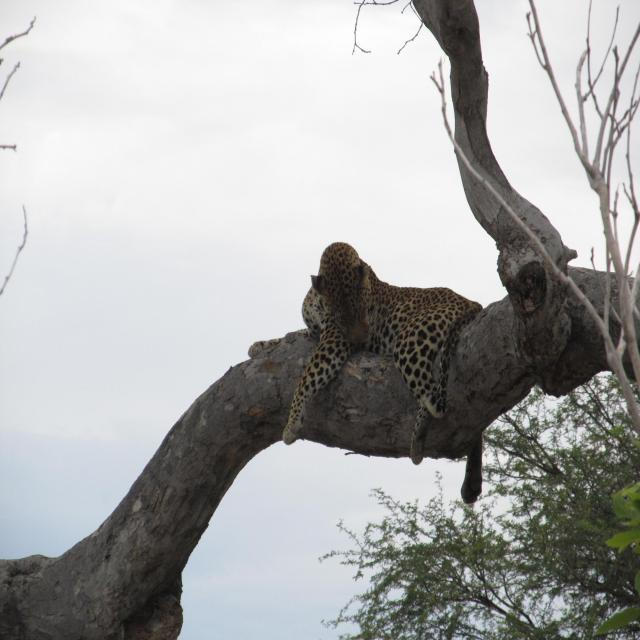Leopard: (252, 235, 495, 508)
